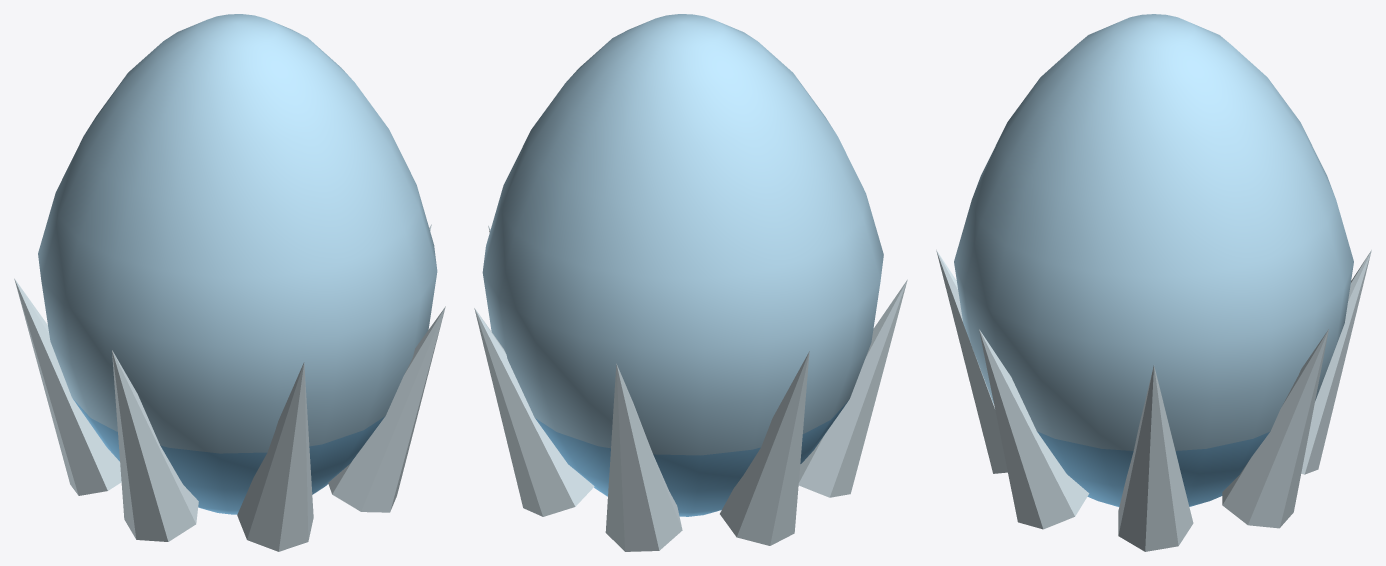
The model's file is Ice.glb.
3 views of the same model, side by side, from view 1: azimuth 30°, elevation 25°; view 2: azimuth 150°, elevation 25°; view 3: azimuth 270°, elevation 25° (orthographic).
Parts seen in each view (by area): view 1: Ice; view 2: Ice; view 3: Ice.
Boxes of the visible parts, x1,y1,x2,y2 form: Ice: (14, 14, 445, 551); Ice: (474, 14, 907, 551); Ice: (936, 14, 1371, 551).
Bounding box in the file's own units: 3.22 × 4 × 3.31.
Materials: 1 (1 with a texture image).
